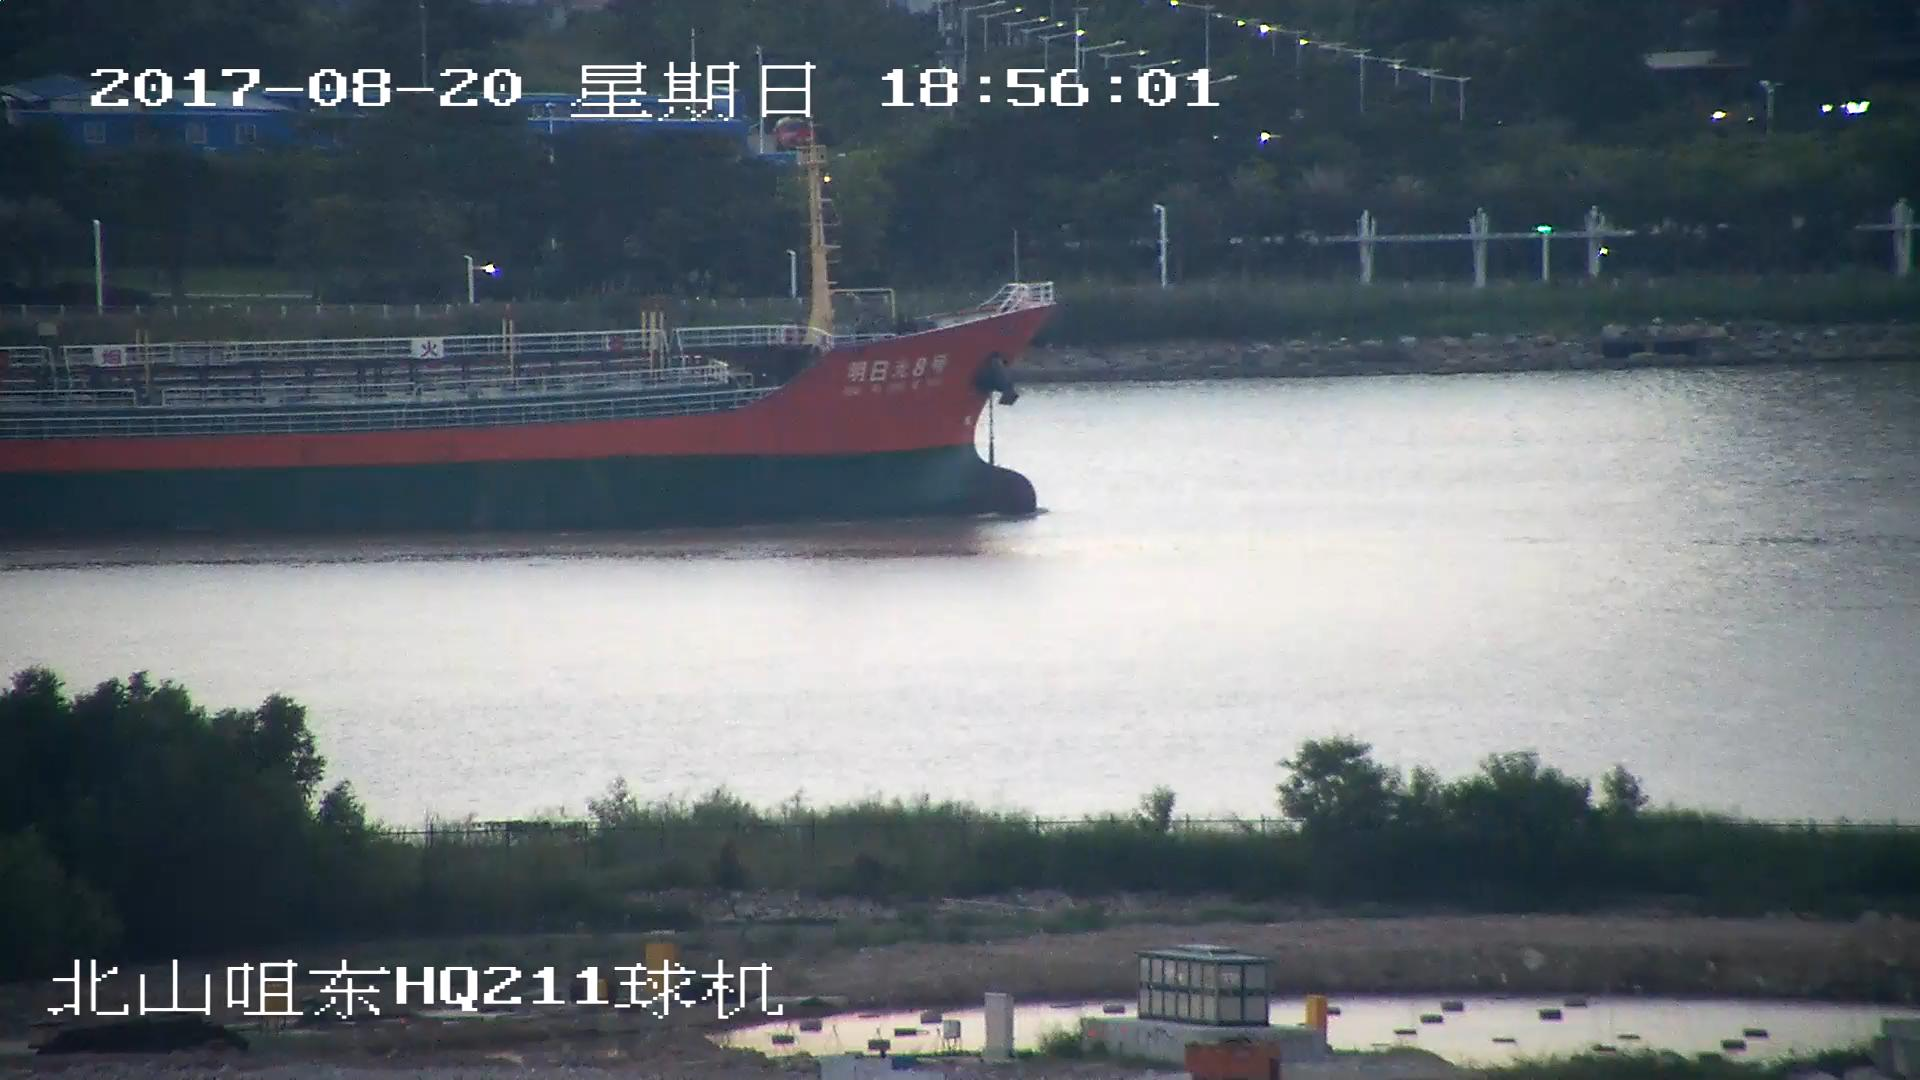general cargo ship: (1, 144, 1055, 542)
